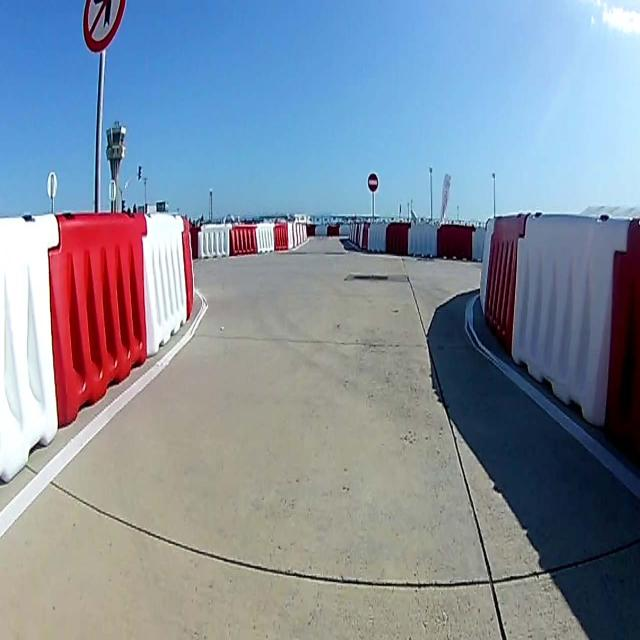girisyok: (368, 172, 378, 192)
soladonulmez: (82, 1, 128, 52)
